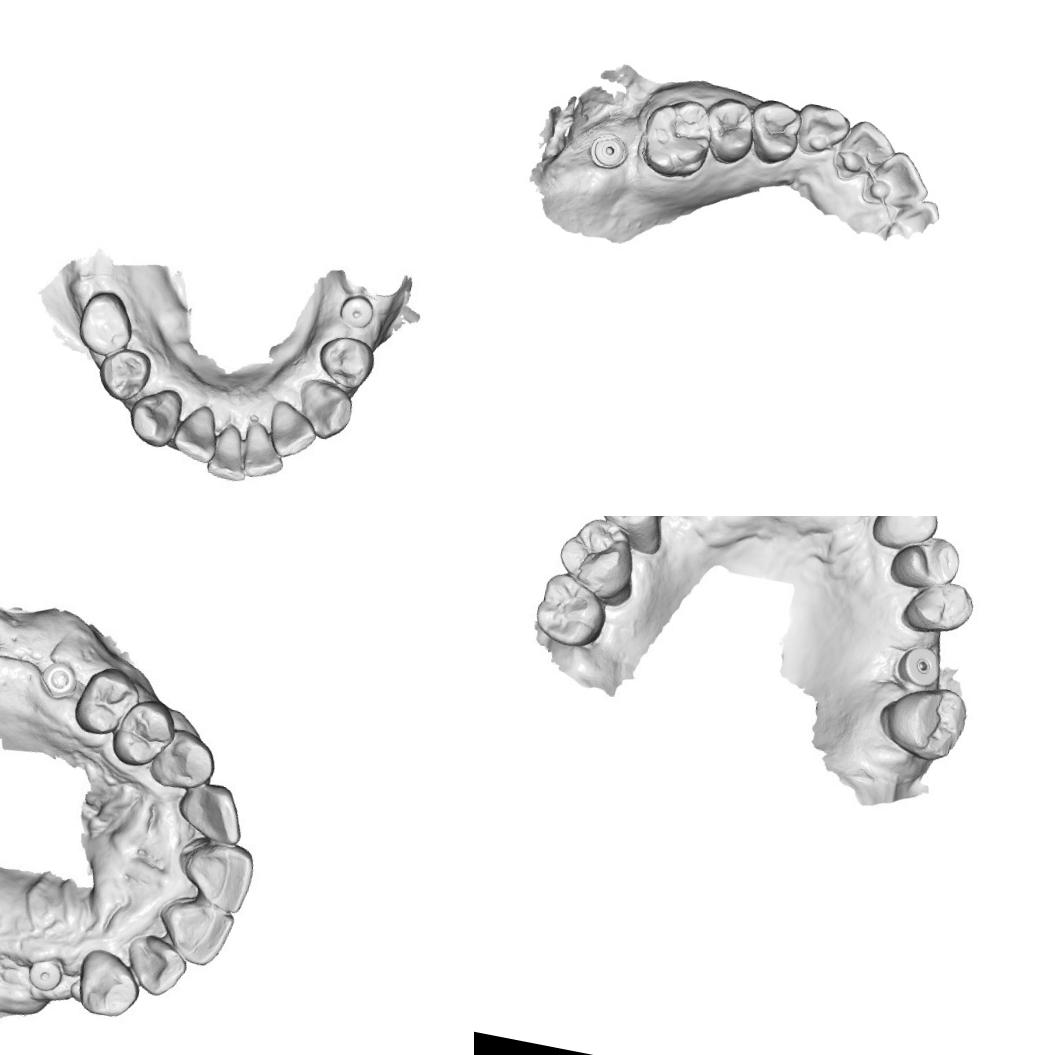canine: (143, 723, 219, 802), (70, 942, 142, 1024), (295, 376, 358, 444), (124, 380, 183, 448), (790, 100, 854, 162), (866, 516, 945, 558)
implant: (896, 639, 945, 689), (22, 947, 70, 996), (334, 289, 380, 335), (585, 128, 631, 173), (37, 654, 81, 700)
incisor: (120, 930, 195, 1000), (184, 838, 254, 912), (860, 144, 934, 213), (164, 895, 235, 966), (831, 116, 899, 187), (262, 398, 318, 462), (238, 418, 292, 484), (184, 784, 244, 842), (202, 420, 255, 483), (171, 400, 219, 464)
molar: (876, 677, 974, 766), (549, 516, 641, 605), (634, 92, 717, 184), (530, 570, 610, 652)
premolar: (900, 570, 980, 643), (72, 664, 142, 742), (885, 530, 960, 600), (698, 92, 760, 168), (74, 286, 136, 360), (743, 95, 805, 168), (115, 695, 176, 768), (310, 329, 376, 392), (94, 342, 152, 404), (593, 516, 665, 544)
